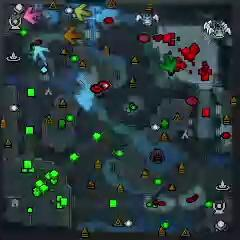x1: (24, 7, 41, 25)
x2: (75, 4, 92, 21)
x3: (32, 45, 49, 61)
x4: (158, 54, 177, 71)
x5: (64, 26, 84, 43)
